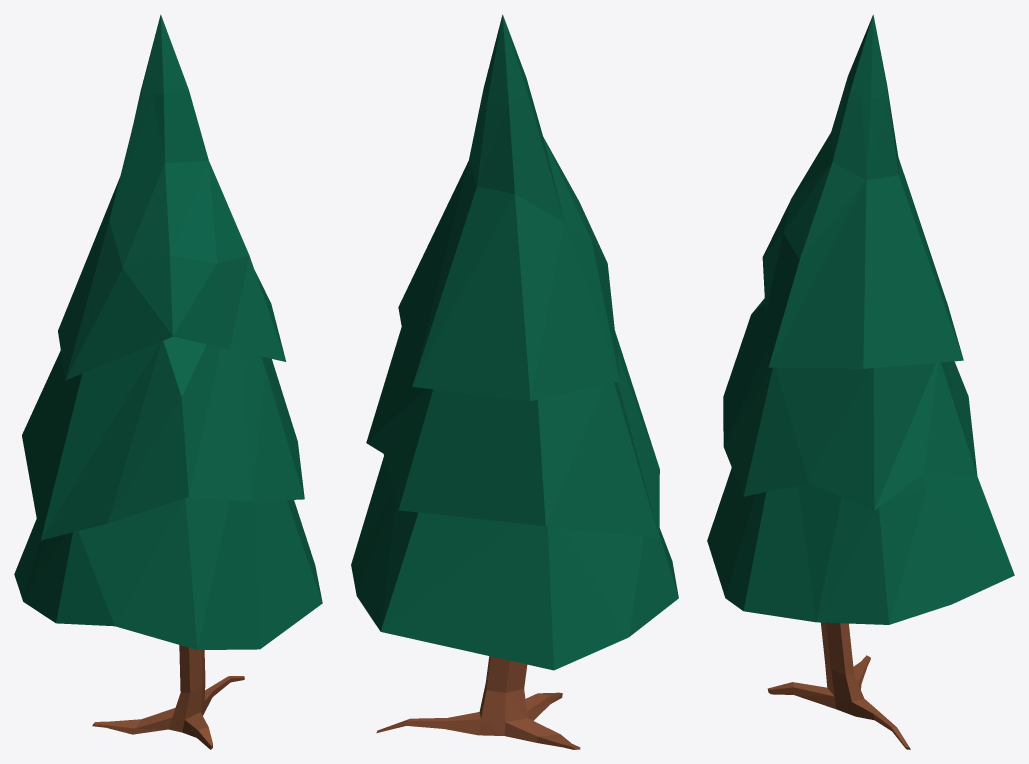
File: world_1_tree_3.dae
The picture shows the model from 3 angles, left to right: view 1: azimuth 30°, elevation 25°; view 2: azimuth 150°, elevation 25°; view 3: azimuth 270°, elevation 25°; orthographic projection. The views are drawn at different scales.
Visible parts, largest first — view 1: world_1_tree_3_leaves, world_1_tree_3_base; view 2: world_1_tree_3_leaves, world_1_tree_3_base; view 3: world_1_tree_3_leaves, world_1_tree_3_base.
Part boxes in pixels (bbox=[...]): world_1_tree_3_leaves: bbox=[14, 14, 322, 649]; world_1_tree_3_base: bbox=[92, 645, 244, 749]; world_1_tree_3_leaves: bbox=[351, 14, 678, 670]; world_1_tree_3_base: bbox=[376, 656, 580, 749]; world_1_tree_3_leaves: bbox=[707, 14, 1014, 624]; world_1_tree_3_base: bbox=[767, 622, 910, 749].
Bounding box in the file's own units: 3.35 × 3.32 × 8.18.
